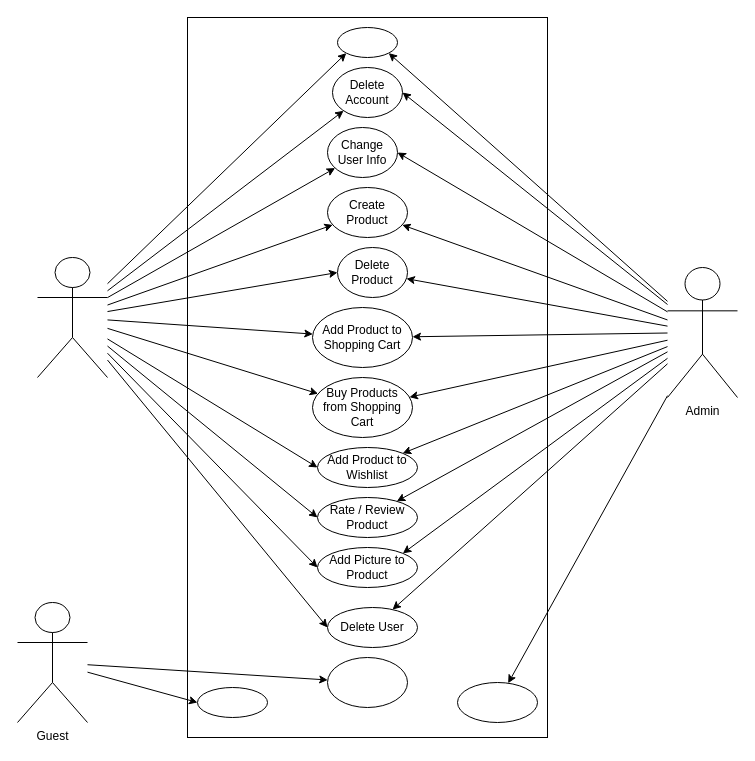
The diagram is 755 pixels wide and 761 high, and some of its shapes have lost their labels. The shapes that lost their labels are listed below. From the top down, each one's box as (x1, y1, x2, y2) in pixels, then its label:
(336, 26, 398, 58): Login
(36, 256, 108, 378): User
(196, 686, 268, 718): Register
(326, 656, 408, 708): Check Catalog
(456, 682, 538, 722): Approve Product
